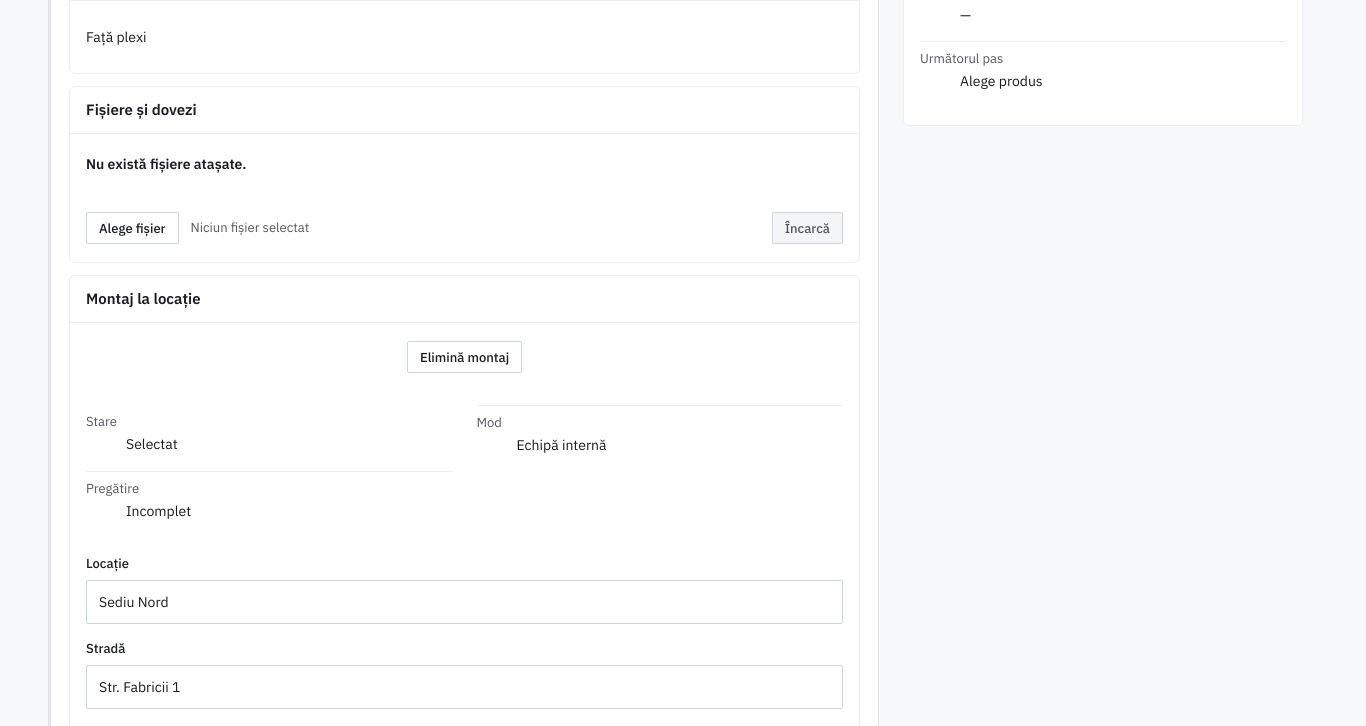
Scenario: RequestDetailPage › requires confirmation before deleting persisted installation facts
(page scrolled)
Click the button "Elimină montaj" at (464, 357), box [86,335,843,379]
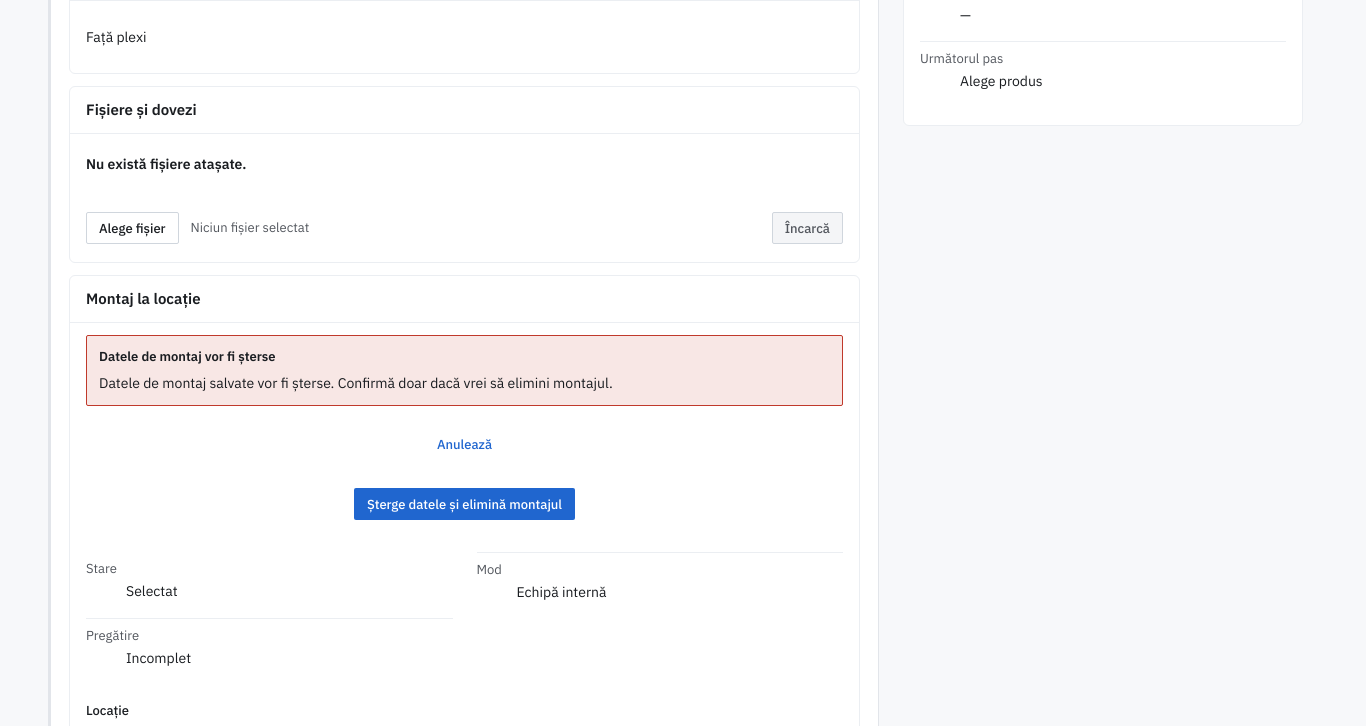
Expected: the text "Datele de montaj vor fi șterse" is shown, [99,348,276,365]
Click the button "Șterge datele și elimină montajul" at (464, 504), box [86,482,843,526]
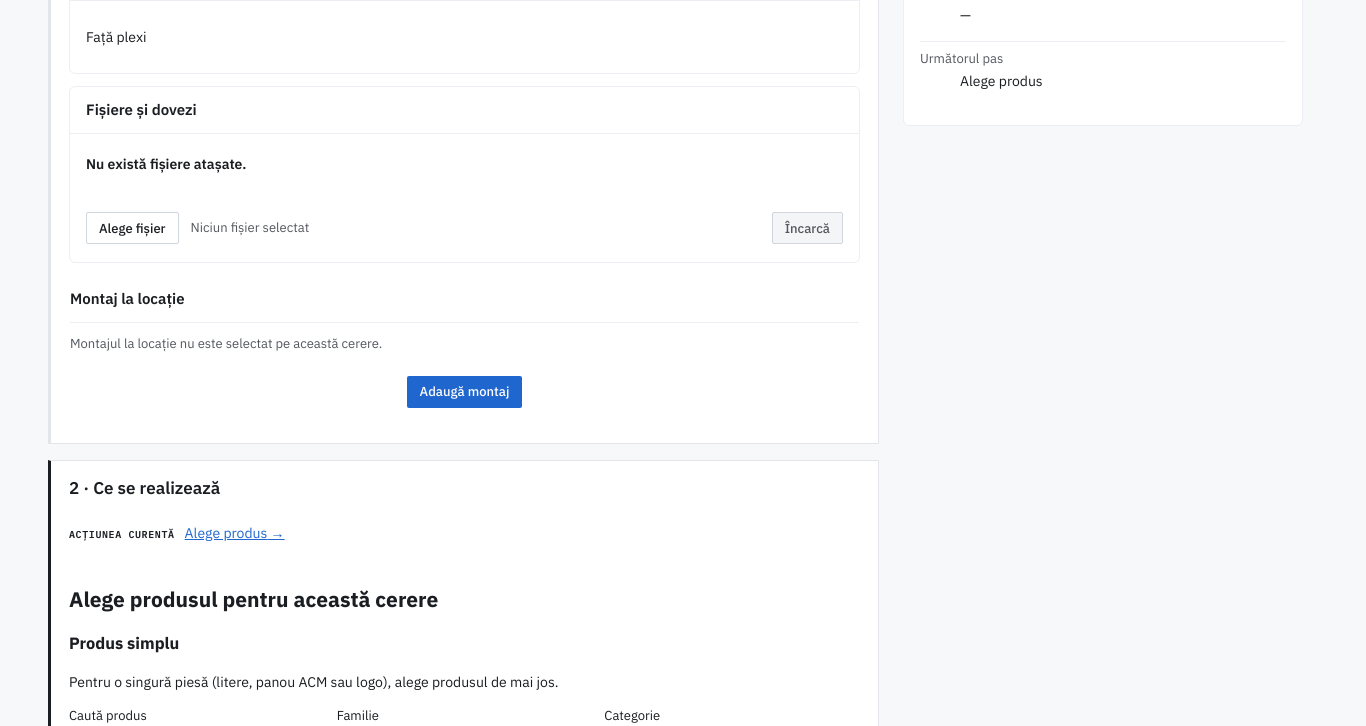
Expected: the text "Montajul la locație nu este selectat pe această cerere." is shown, [70,335,382,352]
